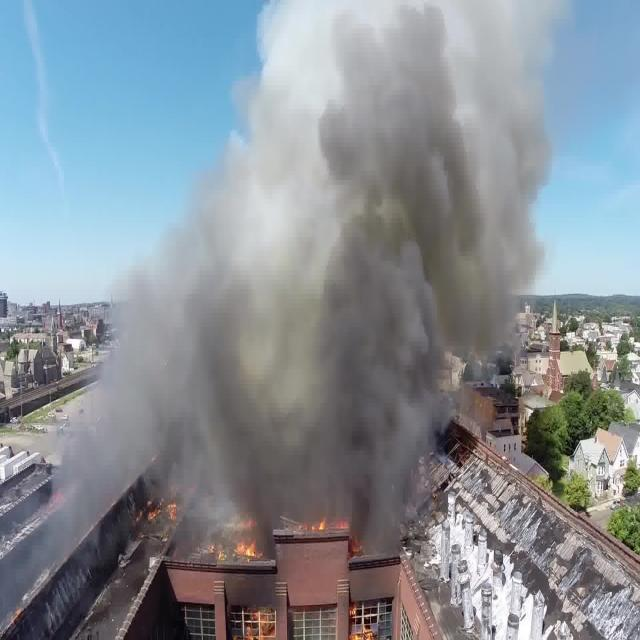Fire: (138, 456, 392, 640)
Smoke: (69, 0, 566, 572)
